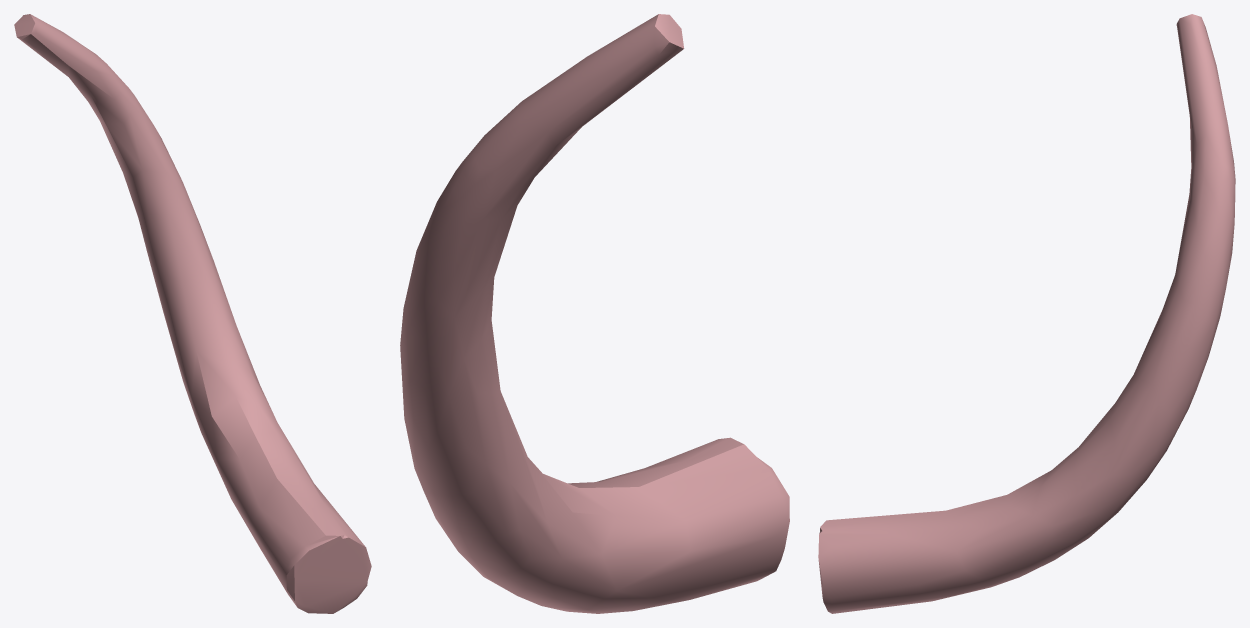
Rendered from fma68228_fj2448.glb.
The picture shows the model from 3 angles, left to right: view 1: azimuth 30°, elevation 25°; view 2: azimuth 150°, elevation 25°; view 3: azimuth 270°, elevation 25°; orthographic projection. The views are drawn at different scales.
Parts seen in each view (by area): view 1: FMA68228_FJ2448; view 2: FMA68228_FJ2448; view 3: FMA68228_FJ2448.
Part boxes in pixels (bbox=[...]): FMA68228_FJ2448: bbox=[14, 14, 371, 613]; FMA68228_FJ2448: bbox=[400, 14, 789, 613]; FMA68228_FJ2448: bbox=[818, 14, 1235, 613].
Size of the model in its own units: 0.0205 by 0.0516 by 0.0367.
